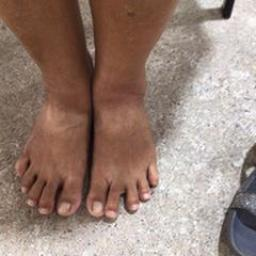Dorsal View -Both Feet-: (8, 34, 168, 229)
